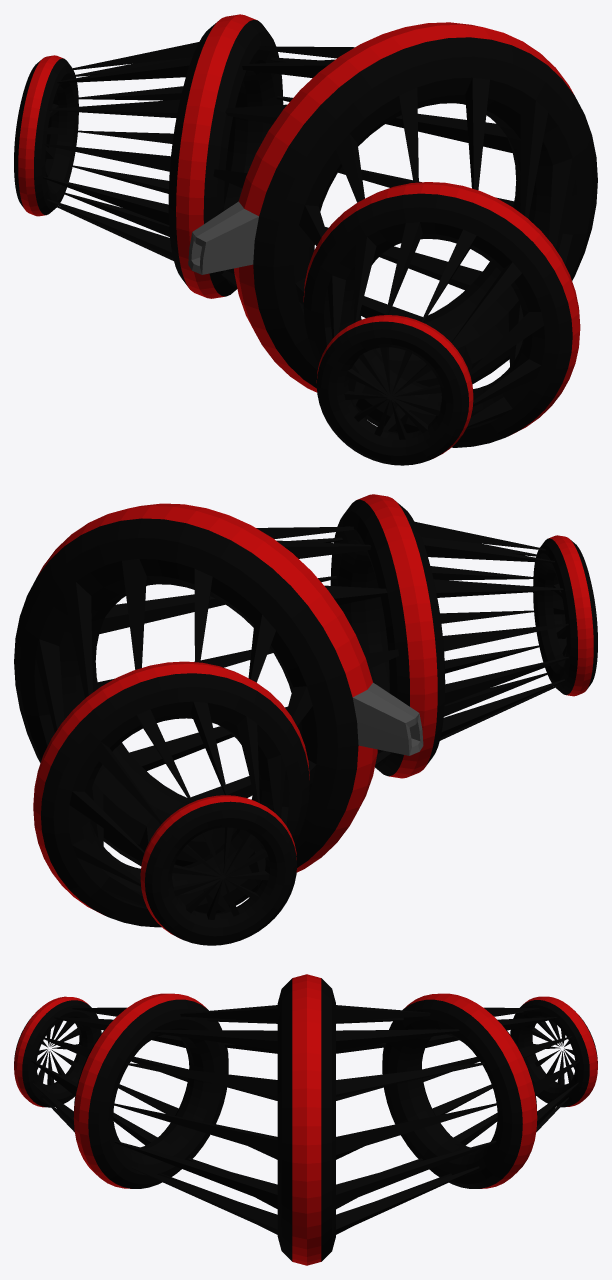
The model's file is Minion I.fbx.
3 views of the same model, one above another, from view 1: azimuth 30°, elevation 25°; view 2: azimuth 150°, elevation 25°; view 3: azimuth 270°, elevation 25° (orthographic). The views are drawn at different scales.
Visible parts, largest first — view 1: Torus; view 2: Torus; view 3: Torus.
Boxes of the visible parts, left/top/right/bottom form: Torus: left=14, top=14, right=597, bottom=465; Torus: left=14, top=494, right=597, bottom=945; Torus: left=14, top=974, right=597, bottom=1265.
Size of the model in its own units: 601 by 500 by 1001.
